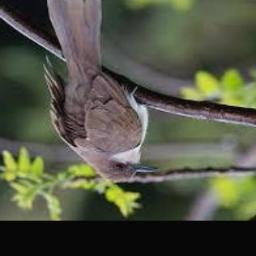Cuckoo: (42, 0, 158, 182)
